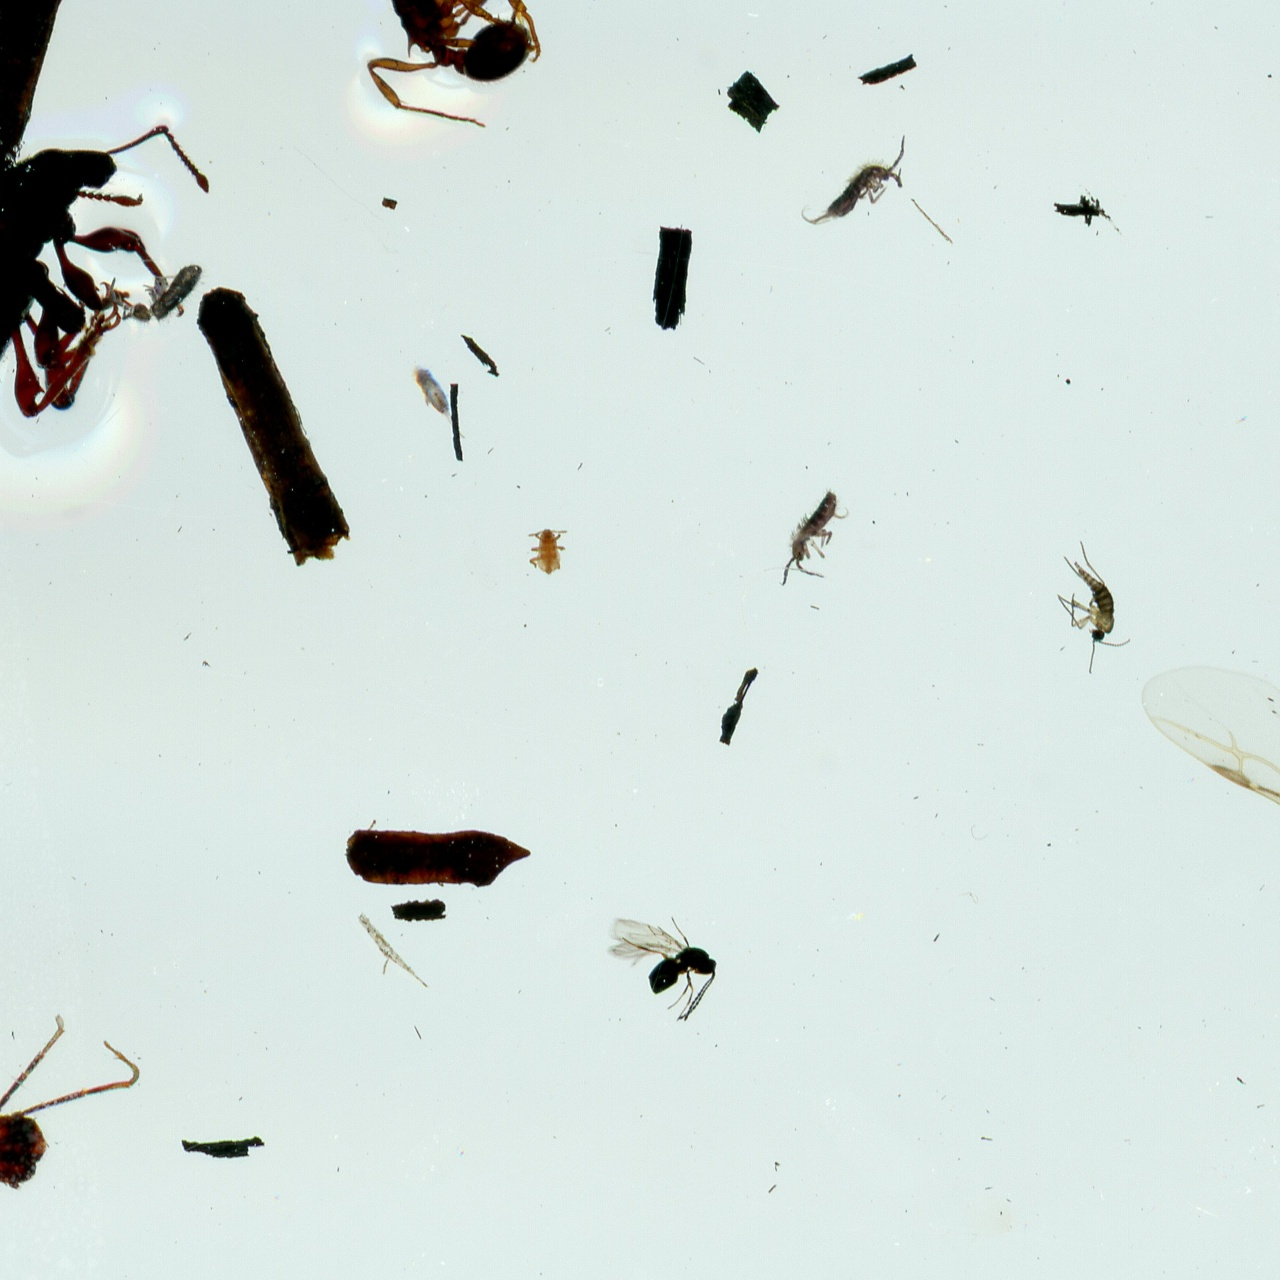arthropod: (0, 49, 274, 508), (0, 1007, 147, 1240), (363, 0, 544, 130), (794, 116, 933, 256), (93, 225, 215, 349), (761, 476, 867, 605), (601, 914, 721, 1024), (1055, 538, 1132, 676), (403, 358, 479, 445), (526, 526, 570, 576)
